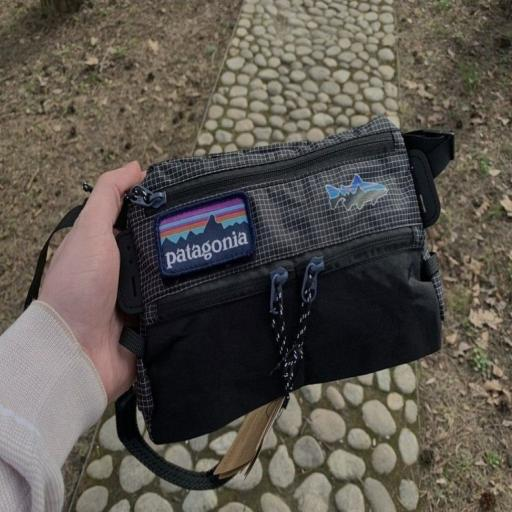door: (117, 117, 453, 489)
laptop: (0, 162, 143, 510)
shelf: (74, 365, 420, 511)
